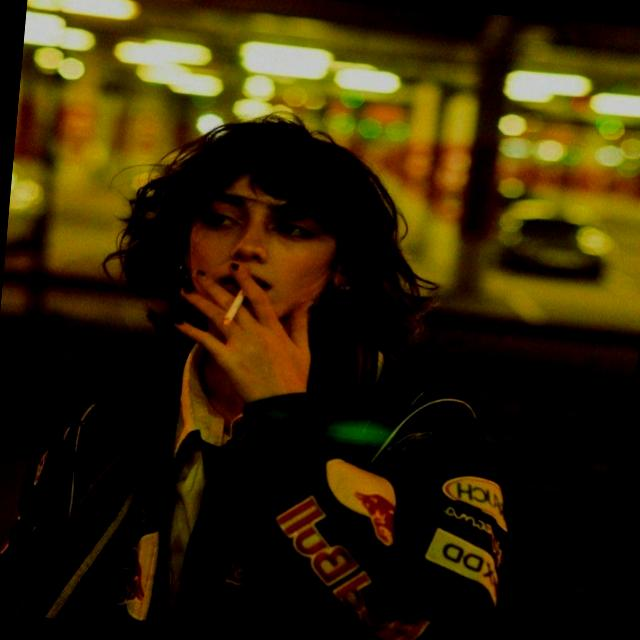smoke: (208, 270, 258, 336)
